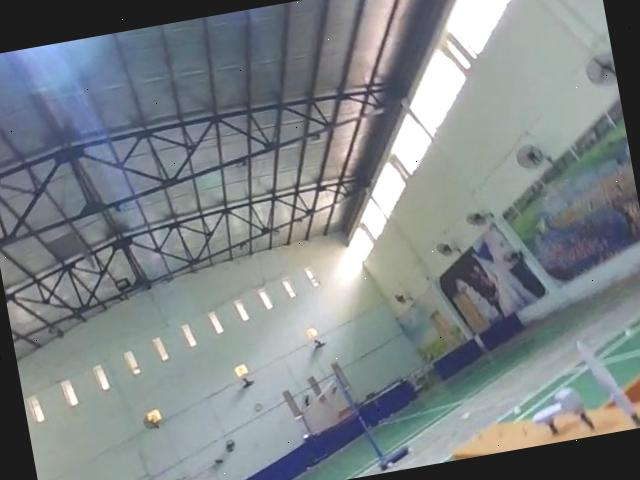Fist: (555, 378, 599, 441)
Hand: (529, 402, 569, 440)
Sph: (573, 332, 640, 436)
